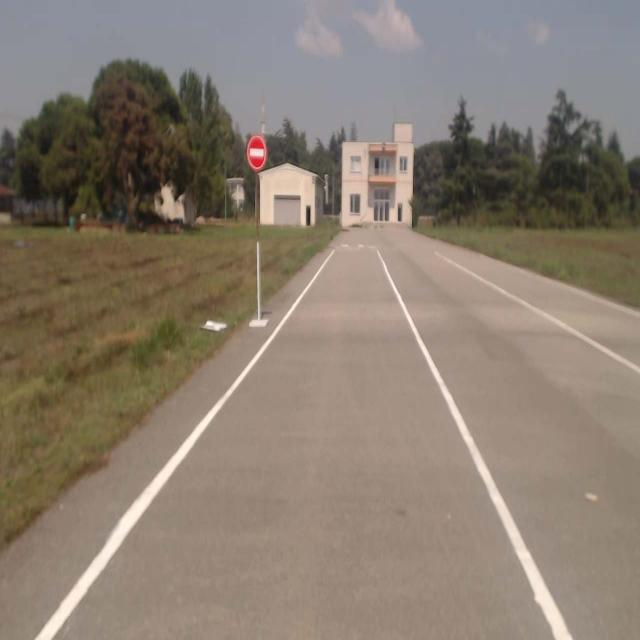girisyok: (248, 136, 266, 170)
